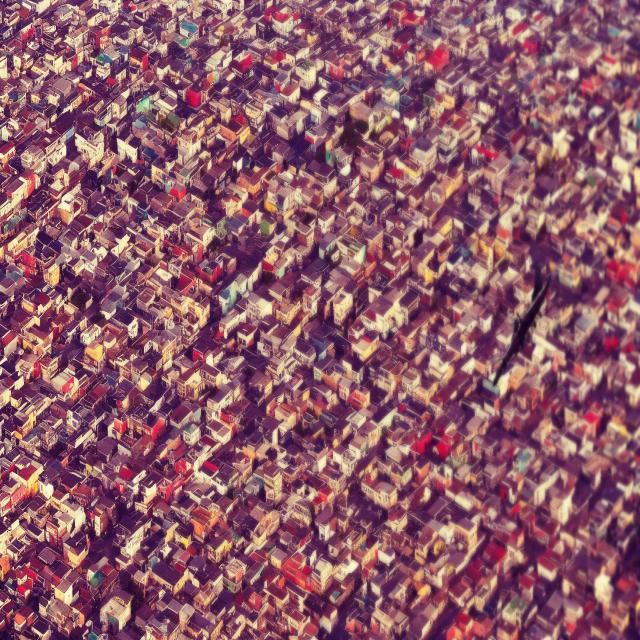airplane: (492, 262, 552, 385)
